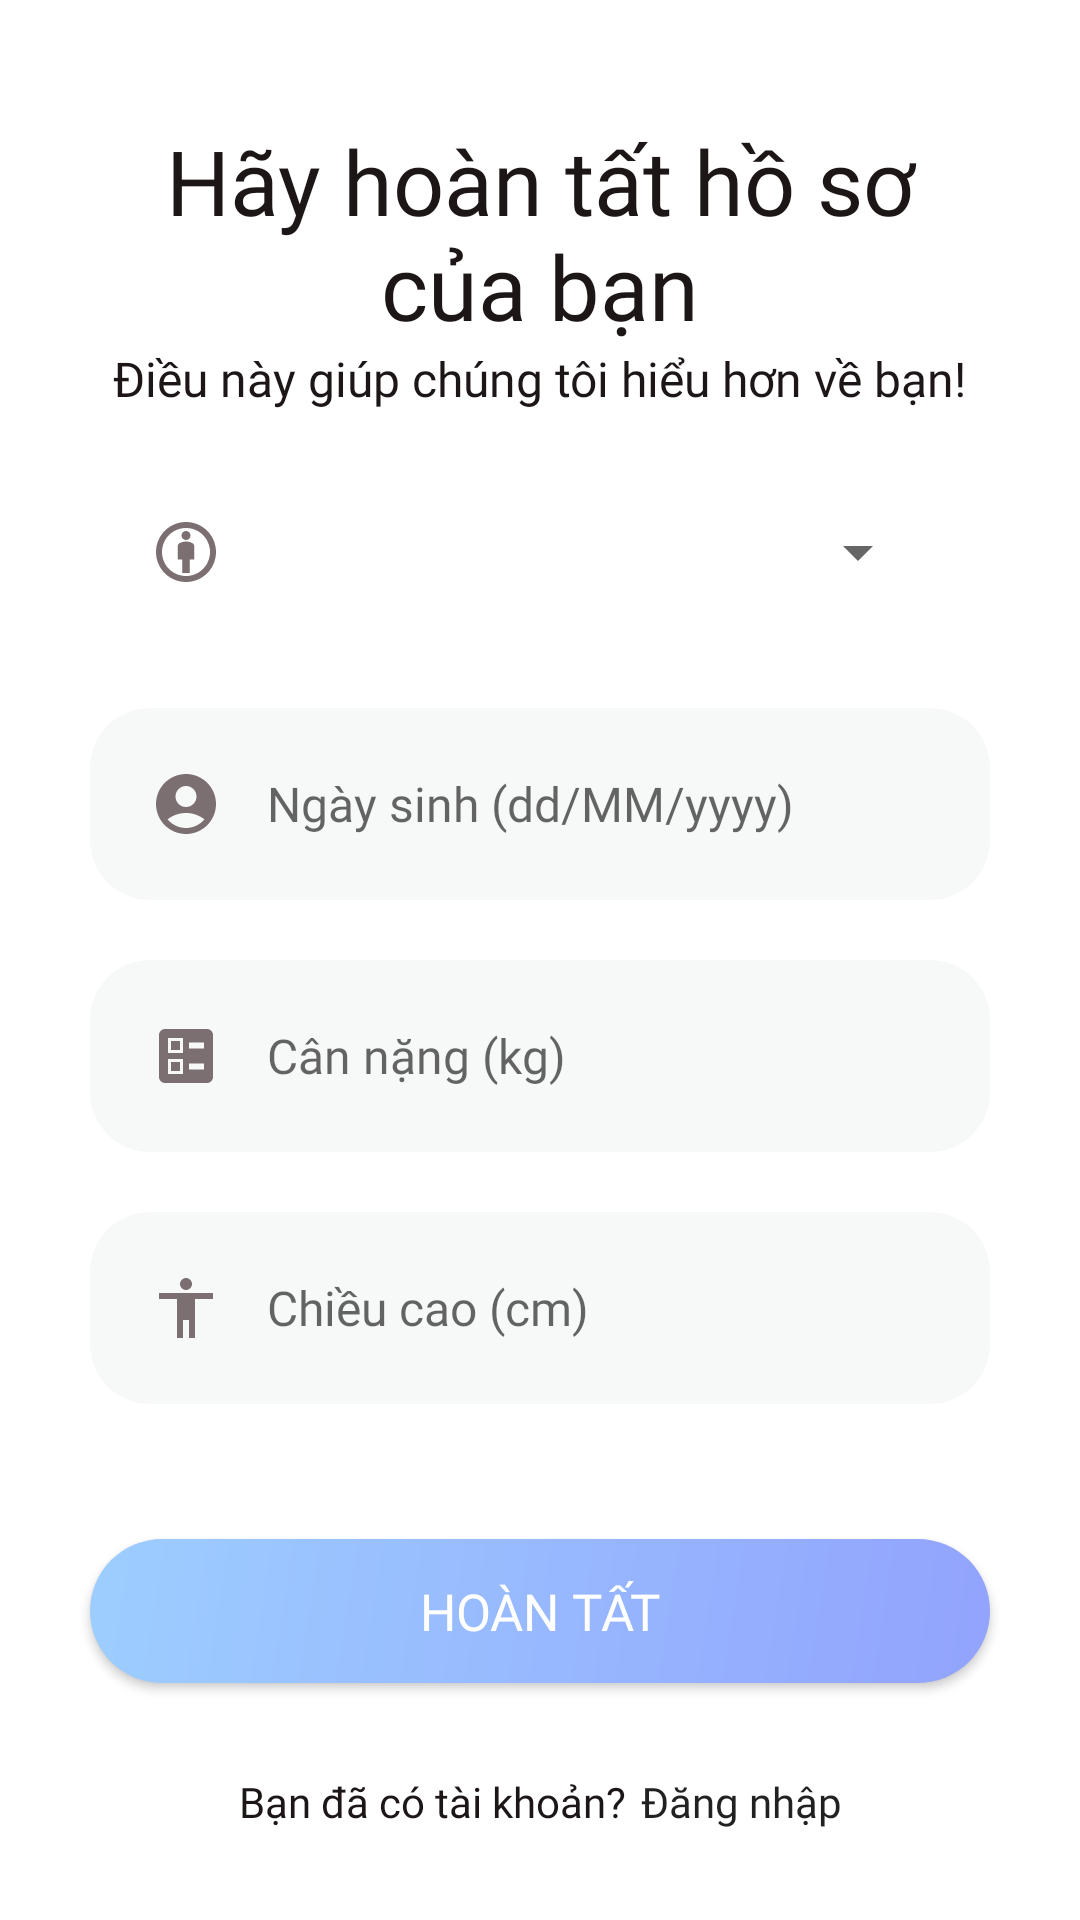

Where to tap for icons on this 1080w x 1920h app screen, as [x,y]:
gender: [186,552]
